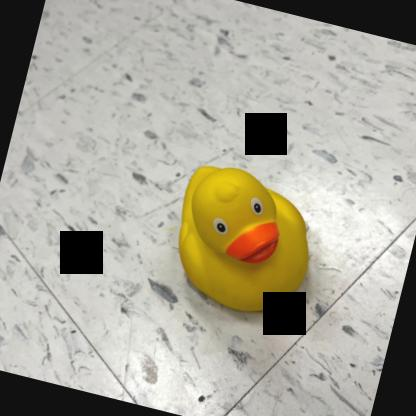duck: (160, 156, 328, 326)
